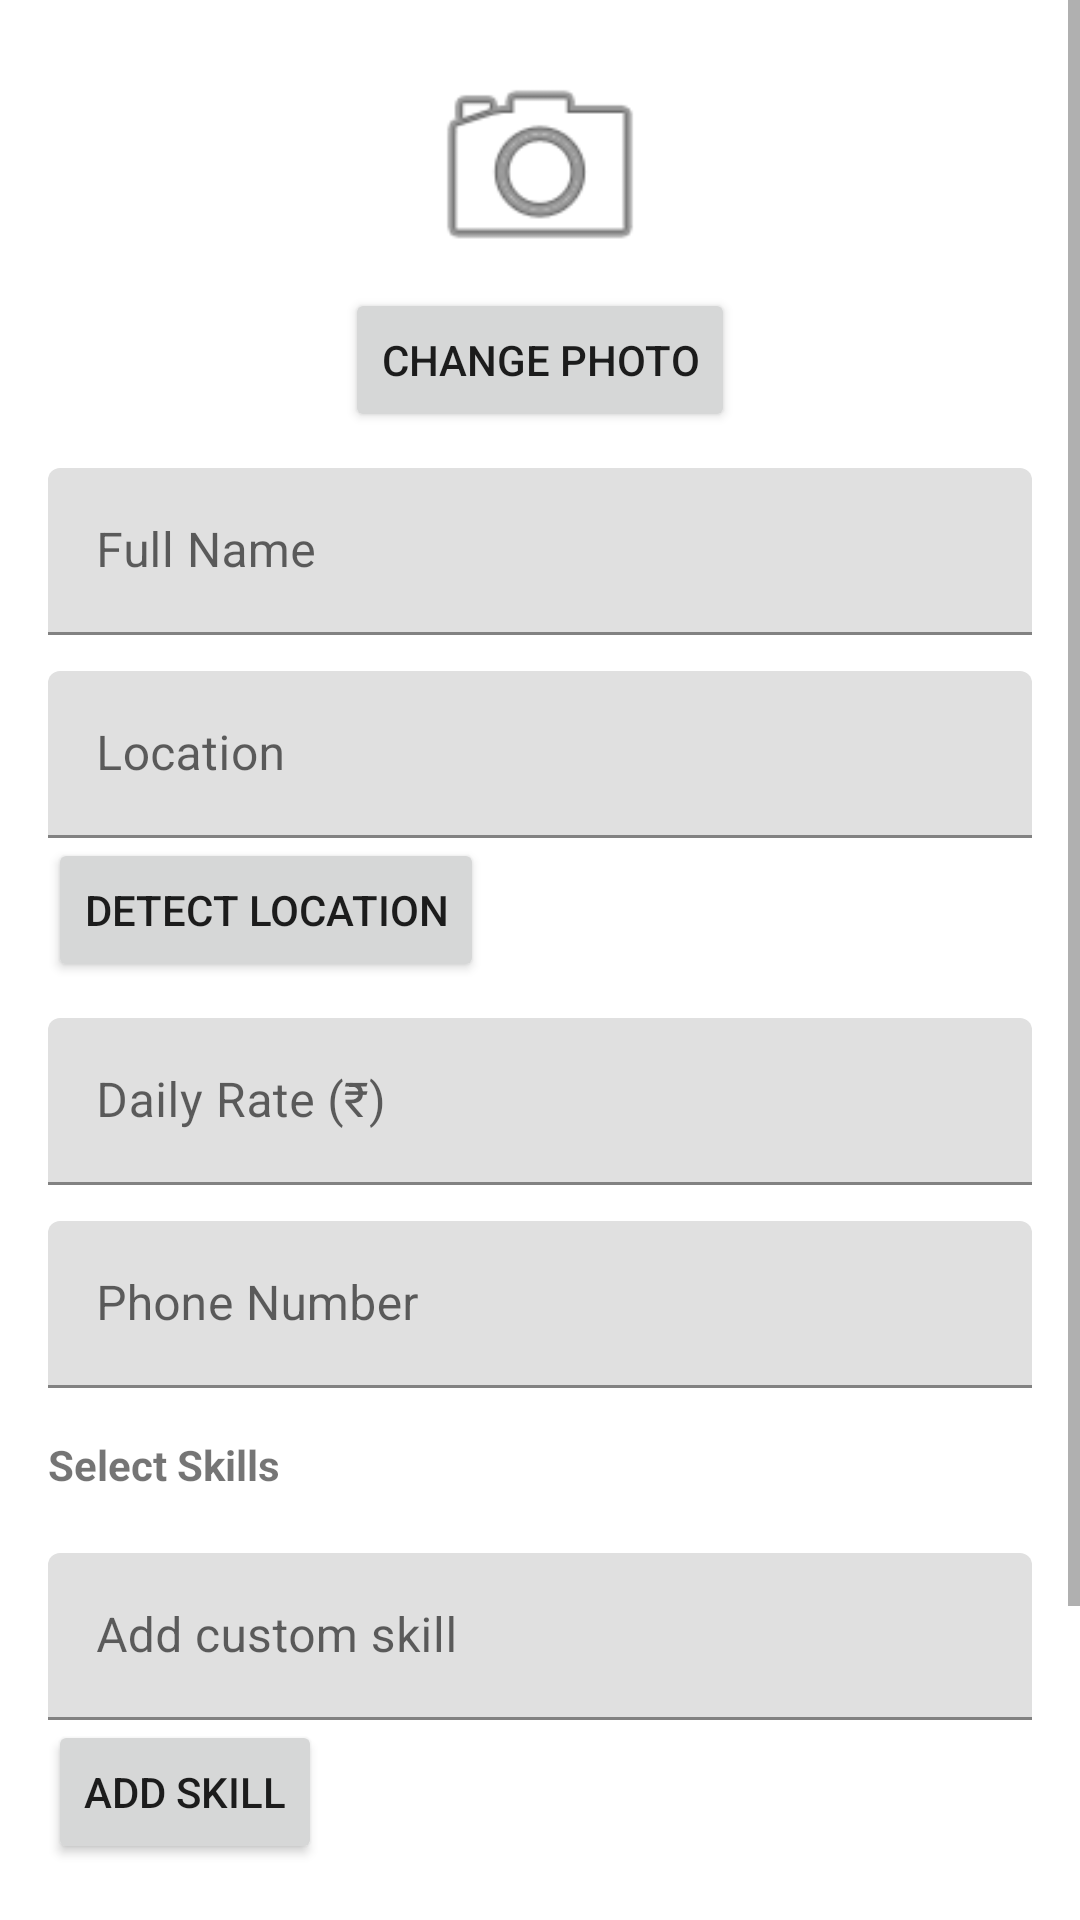

Icon bounding boxes for this 1080*1920 phone screenshot, format (x1, y1, x2, y2):
camera: (447, 90, 633, 238)
